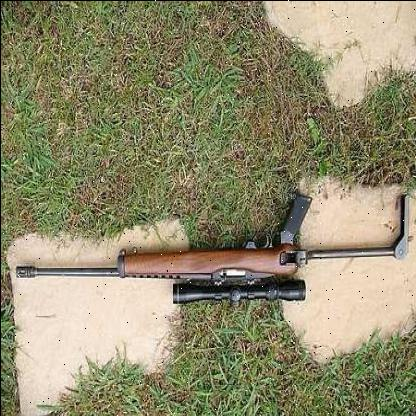rifle: (4, 185, 408, 332)
